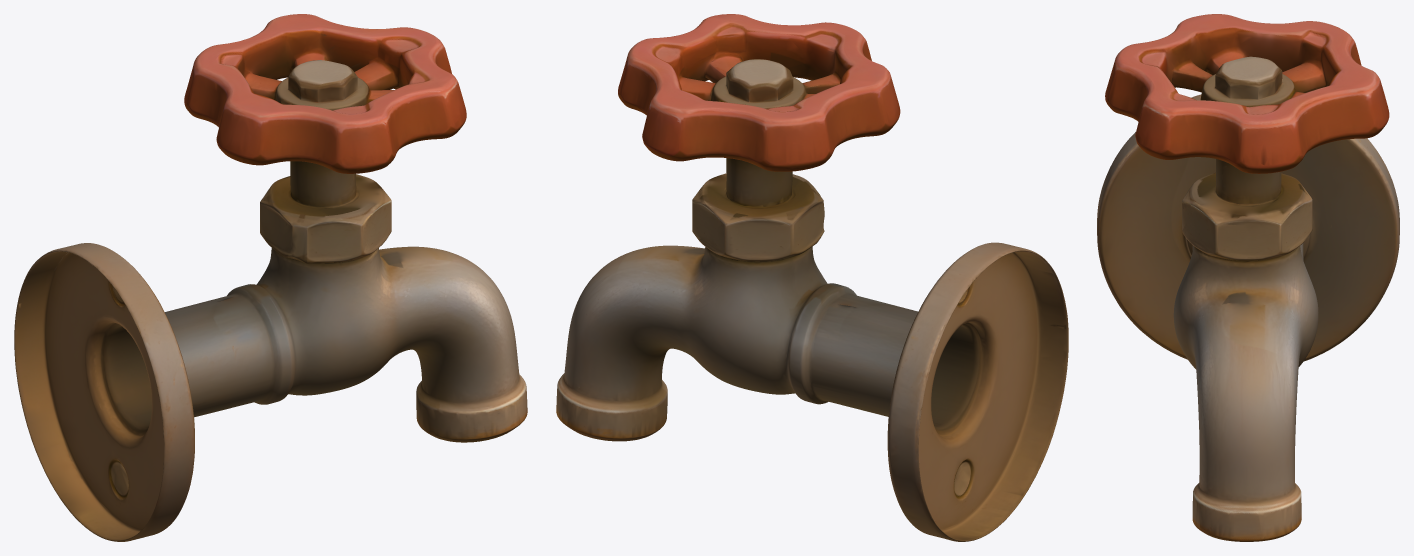
The model's file is Faucet.fbx.
The picture shows the model from 3 angles, left to right: view 1: azimuth 30°, elevation 25°; view 2: azimuth 150°, elevation 25°; view 3: azimuth 270°, elevation 25°; orthographic projection.
Parts seen in each view (by area): view 1: Mesh_0; view 2: Mesh_0; view 3: Mesh_0.
Part boxes in pixels (<box>): Mesh_0: <box>14,14,527,541</box>; Mesh_0: <box>556,14,1068,541</box>; Mesh_0: <box>1097,14,1399,541</box>.
Bounding box in the file's own units: 89.13 × 80.91 × 54.61.
1 material, 1 textured.
